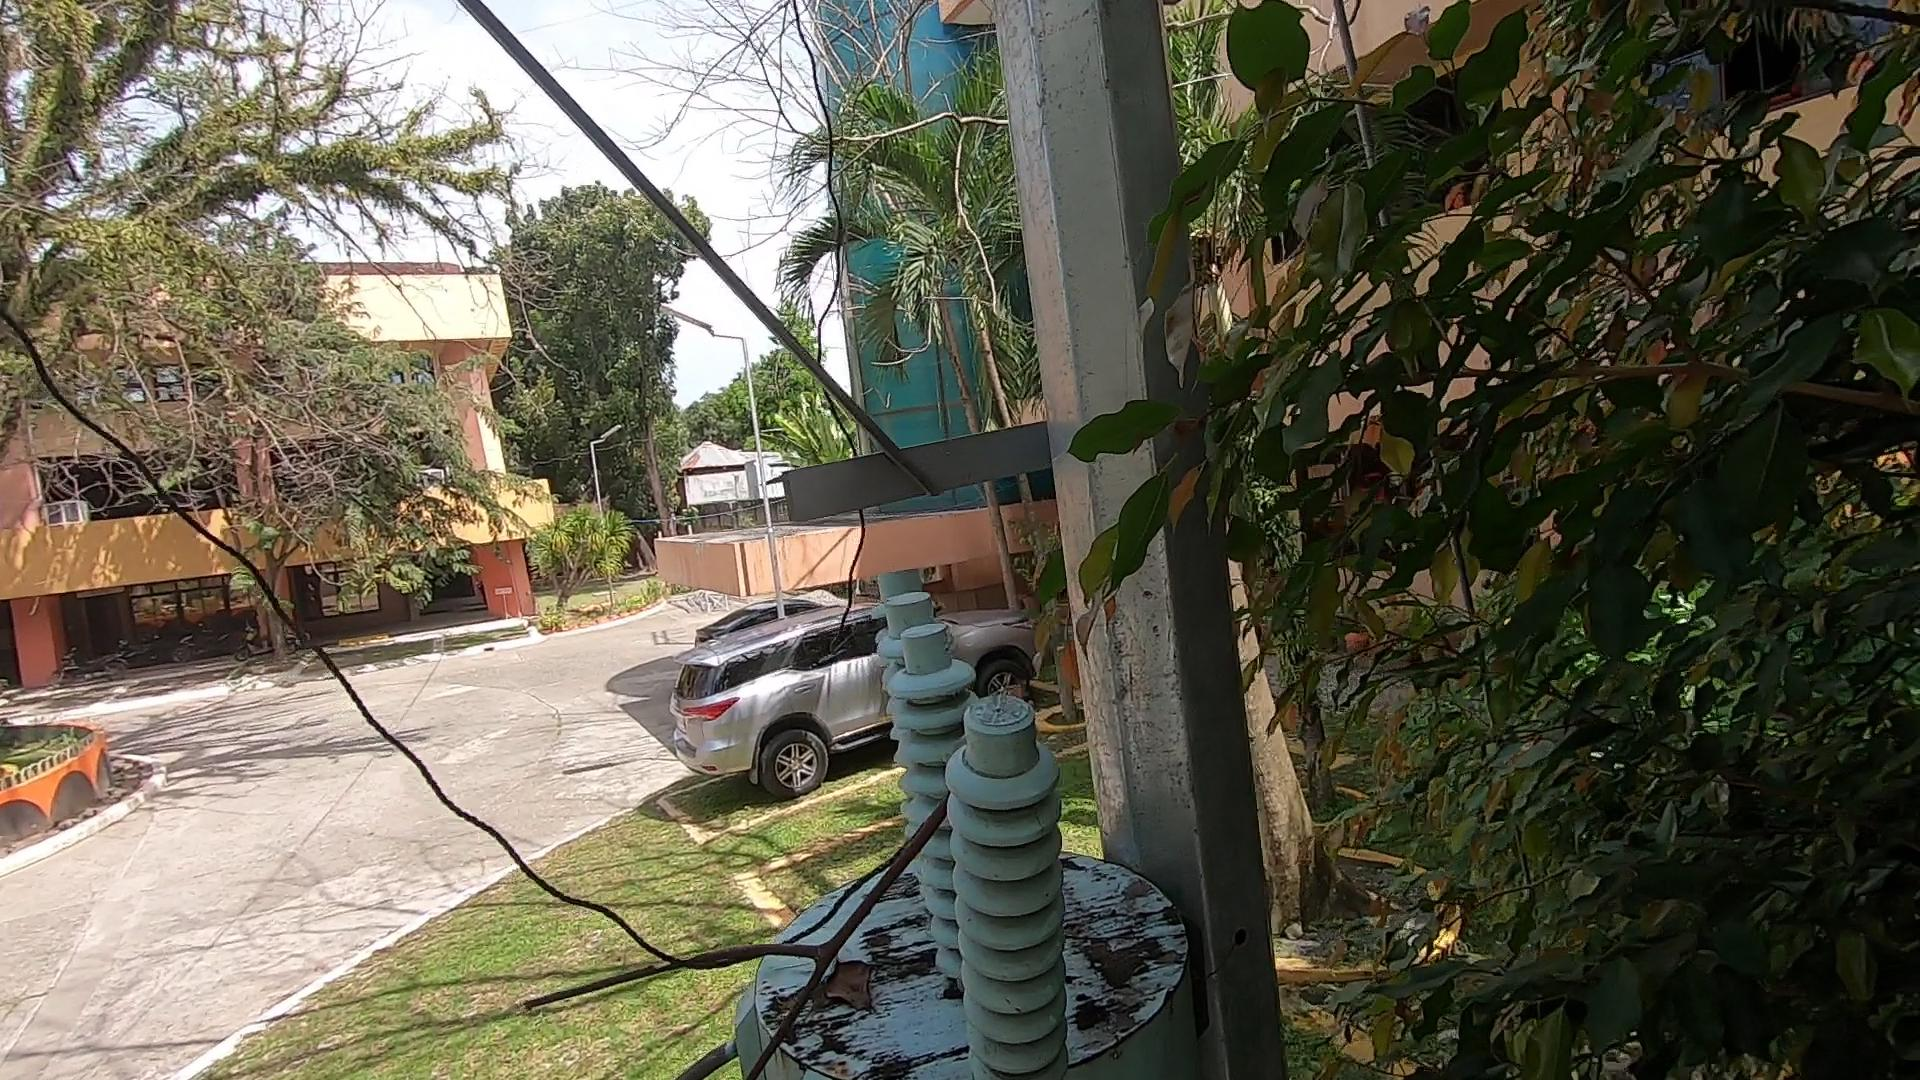leaf: (814, 948, 897, 1036)
tree branch: (492, 721, 1002, 1080)
